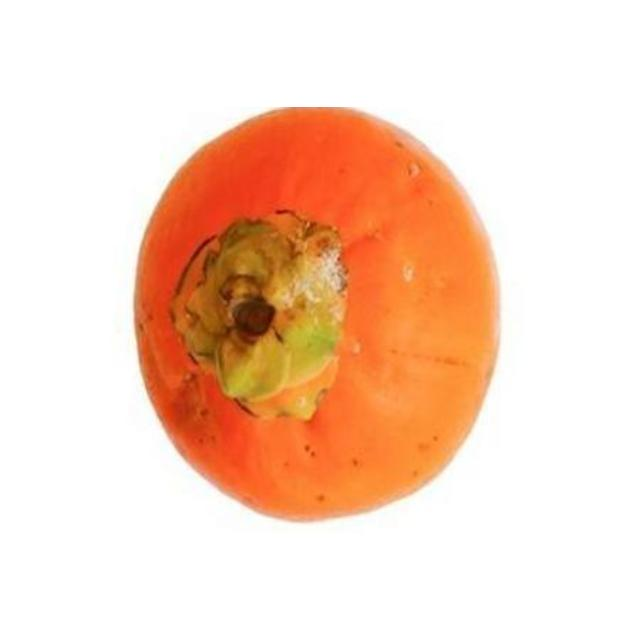good: (132, 110, 506, 525)
